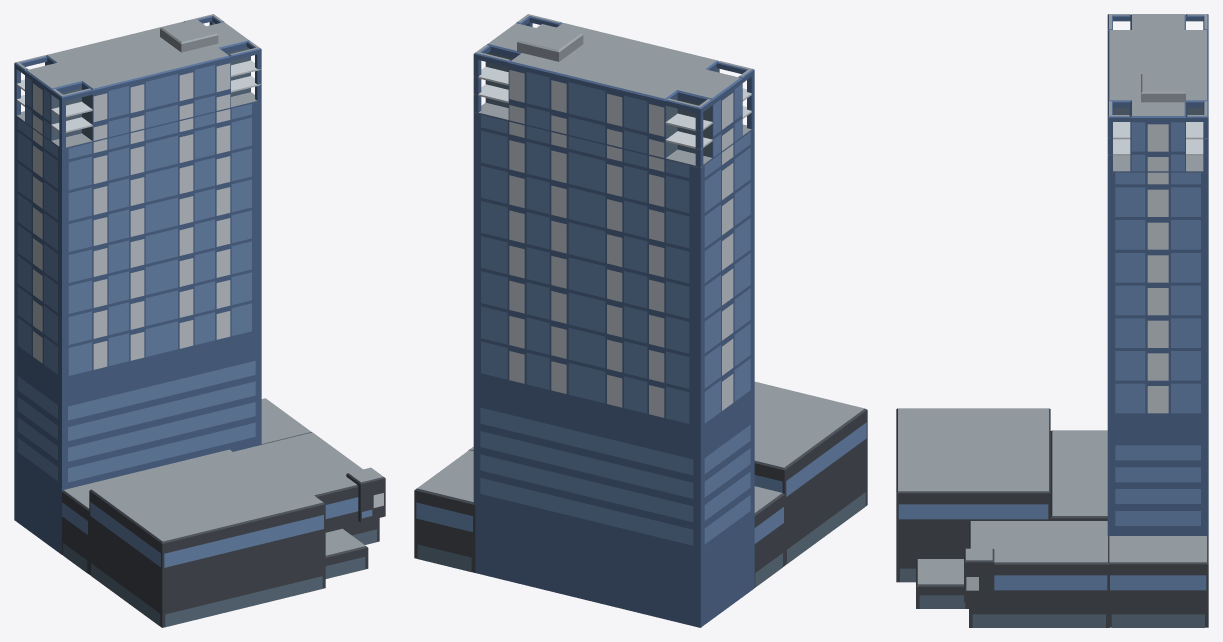
Rendered from atx-w-austin.glb.
3 views of the same model, side by side, from view 1: azimuth 30°, elevation 25°; view 2: azimuth 150°, elevation 25°; view 3: azimuth 270°, elevation 25° (orthographic). The views are drawn at different scales.
Parts seen in each view (by area): view 1: W Austin and ACL Live; view 2: W Austin and ACL Live; view 3: W Austin and ACL Live.
Boxes of the visible parts, x1,y1,x2,y2 form: W Austin and ACL Live: (14,14,385,627); W Austin and ACL Live: (414,14,867,627); W Austin and ACL Live: (896,14,1208,627).
Bounding box in the file's own units: 83.24 × 145 × 83.12.
